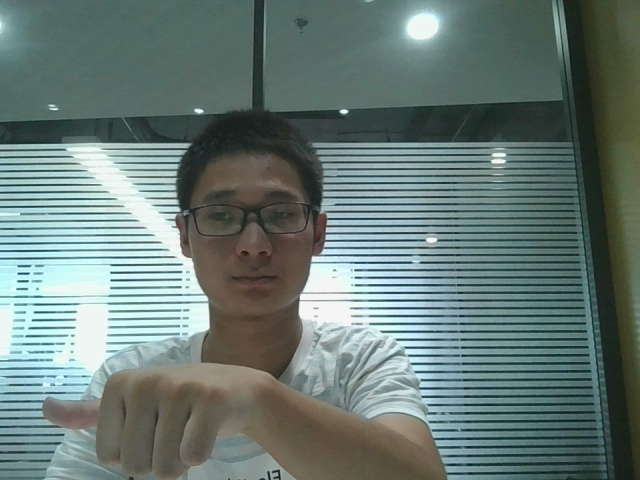hand: (32, 358, 284, 480)
